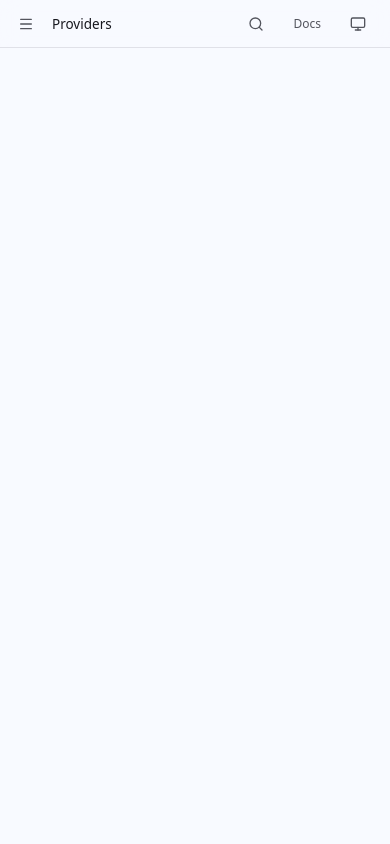
Test: ConsoleShell › opens the mobile menu drawer with the same nav
What coordinates should you click on to do the following:
click the button named "Open menu"
I would click on:
 (26, 24)
Its box is [10,8,42,40].
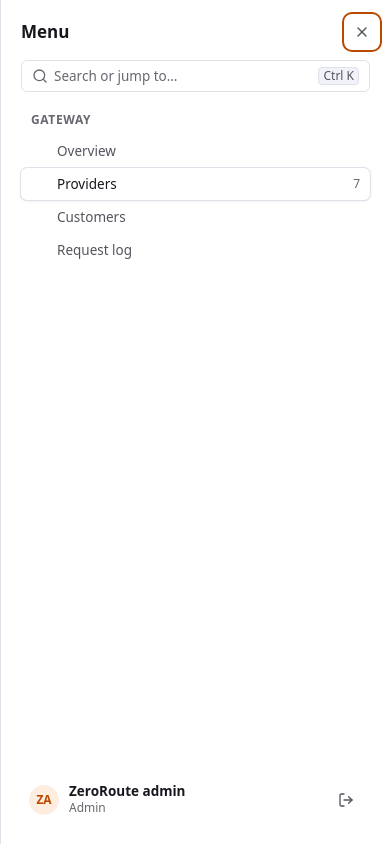
Expected: the links read "Overview", "Providers7", "Customers", "Request log", in this order, [57,142,116,160]; [21,168,370,200]; [57,208,126,226]; [57,241,132,259]
Expected: the button named "Sign out" is shown, [330,784,362,816]
